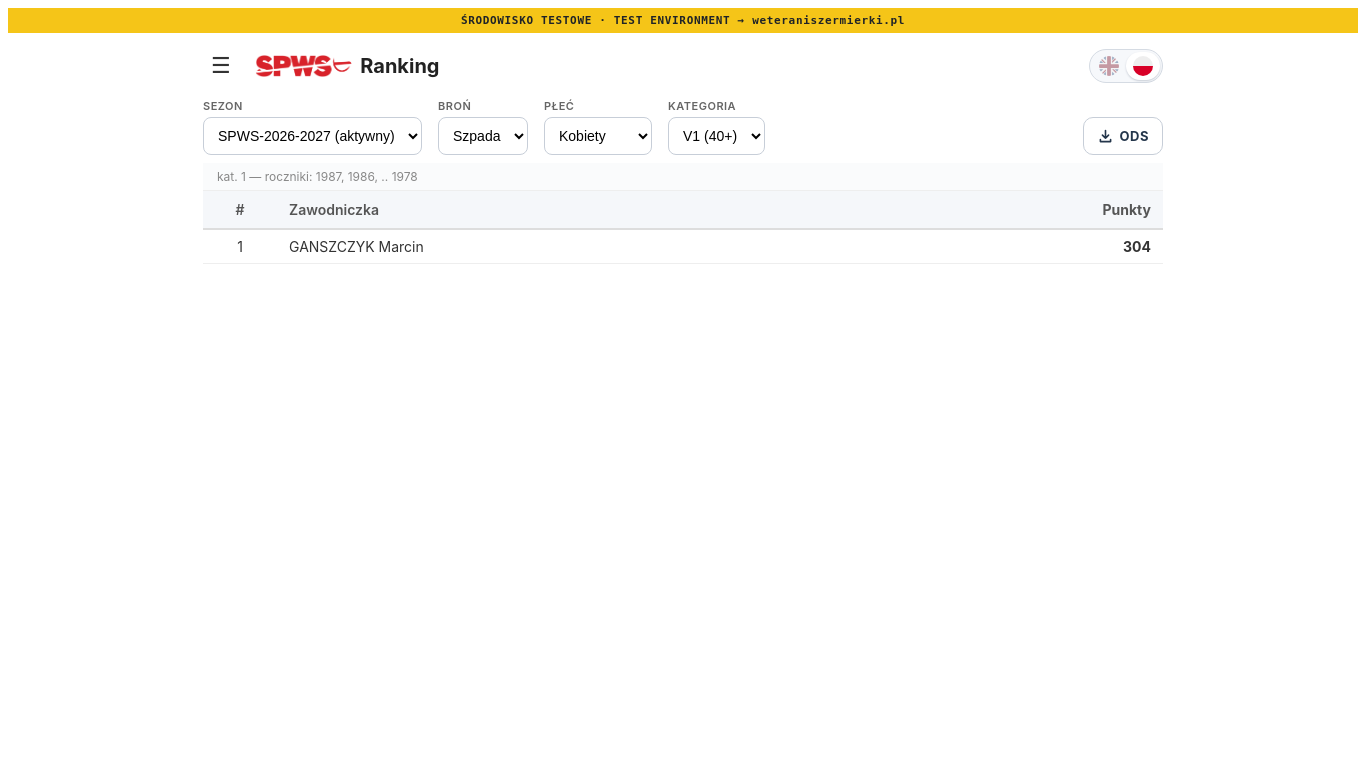
it: R.30 — the drilldown names the season being ranked › a rolling drilldown whose rows are all carried over still names the selected season
Click the row with class "data-row" at (683, 247), box [203,229,1163,264]
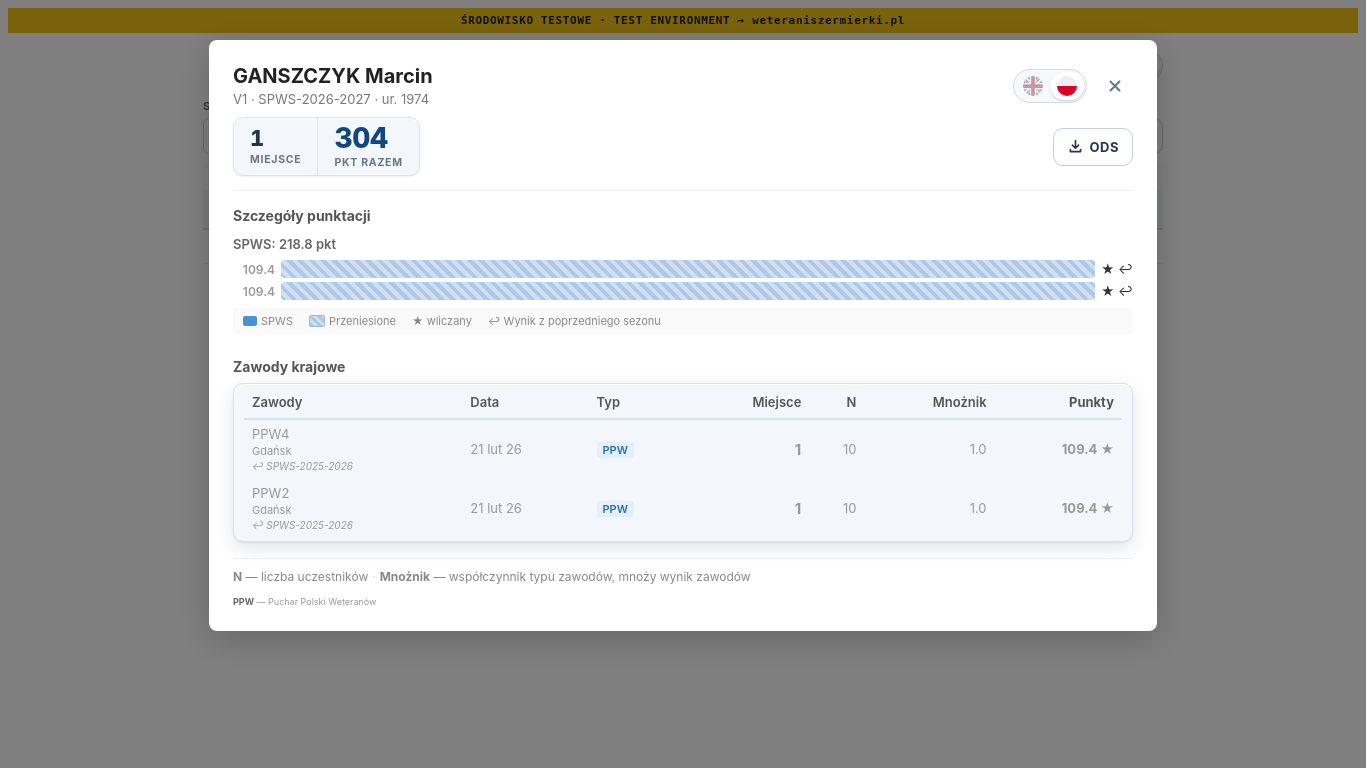
Check: the element with class "subheader" does not show "SPWS-2025-2026"
Check: the text "V1 · SPWS-2026-2027 · ur. 1974" is shown, box [233,91,433,107]
Check: the text with class "subheader" shows "SPWS-2026-2027", box [233,91,429,107]
